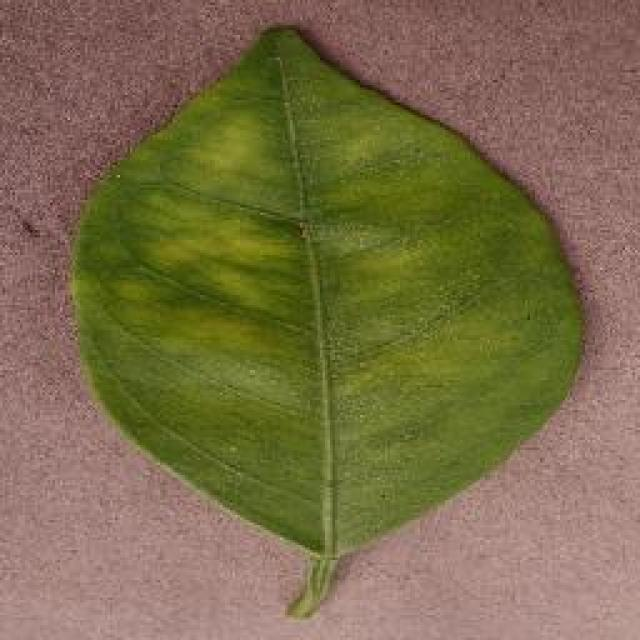Orange_Haunglongbing_Citrus_greening: (119, 82, 556, 534)
